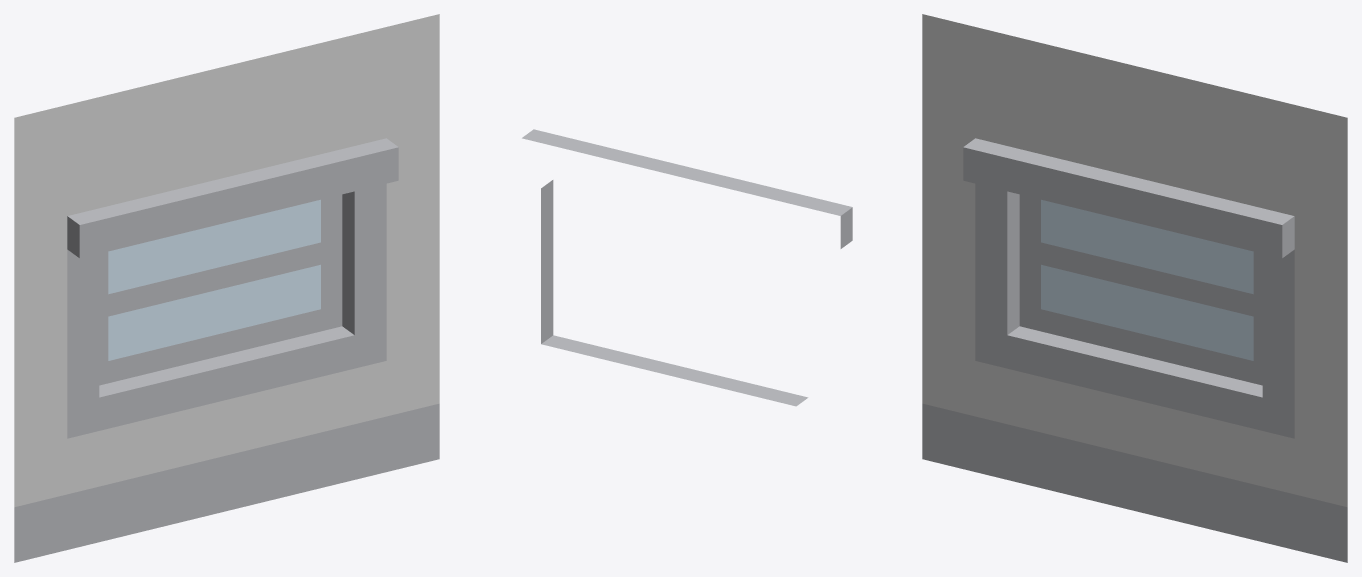
The model's file is wall_windowD.glb.
The picture shows the model from 3 angles, left to right: view 1: azimuth 30°, elevation 25°; view 2: azimuth 150°, elevation 25°; view 3: azimuth 330°, elevation 25°; orthographic projection.
Parts seen in each view (by area): view 1: wall_windowD; view 2: wall_windowD; view 3: wall_windowD.
Boxes of the visible parts, box(x1,y1,x2,y2) form: wall_windowD: box(14, 14, 439, 562); wall_windowD: box(522, 129, 852, 406); wall_windowD: box(922, 14, 1347, 562).
Bounding box in the file's own units: 0.4 × 0.4 × 0.04.
